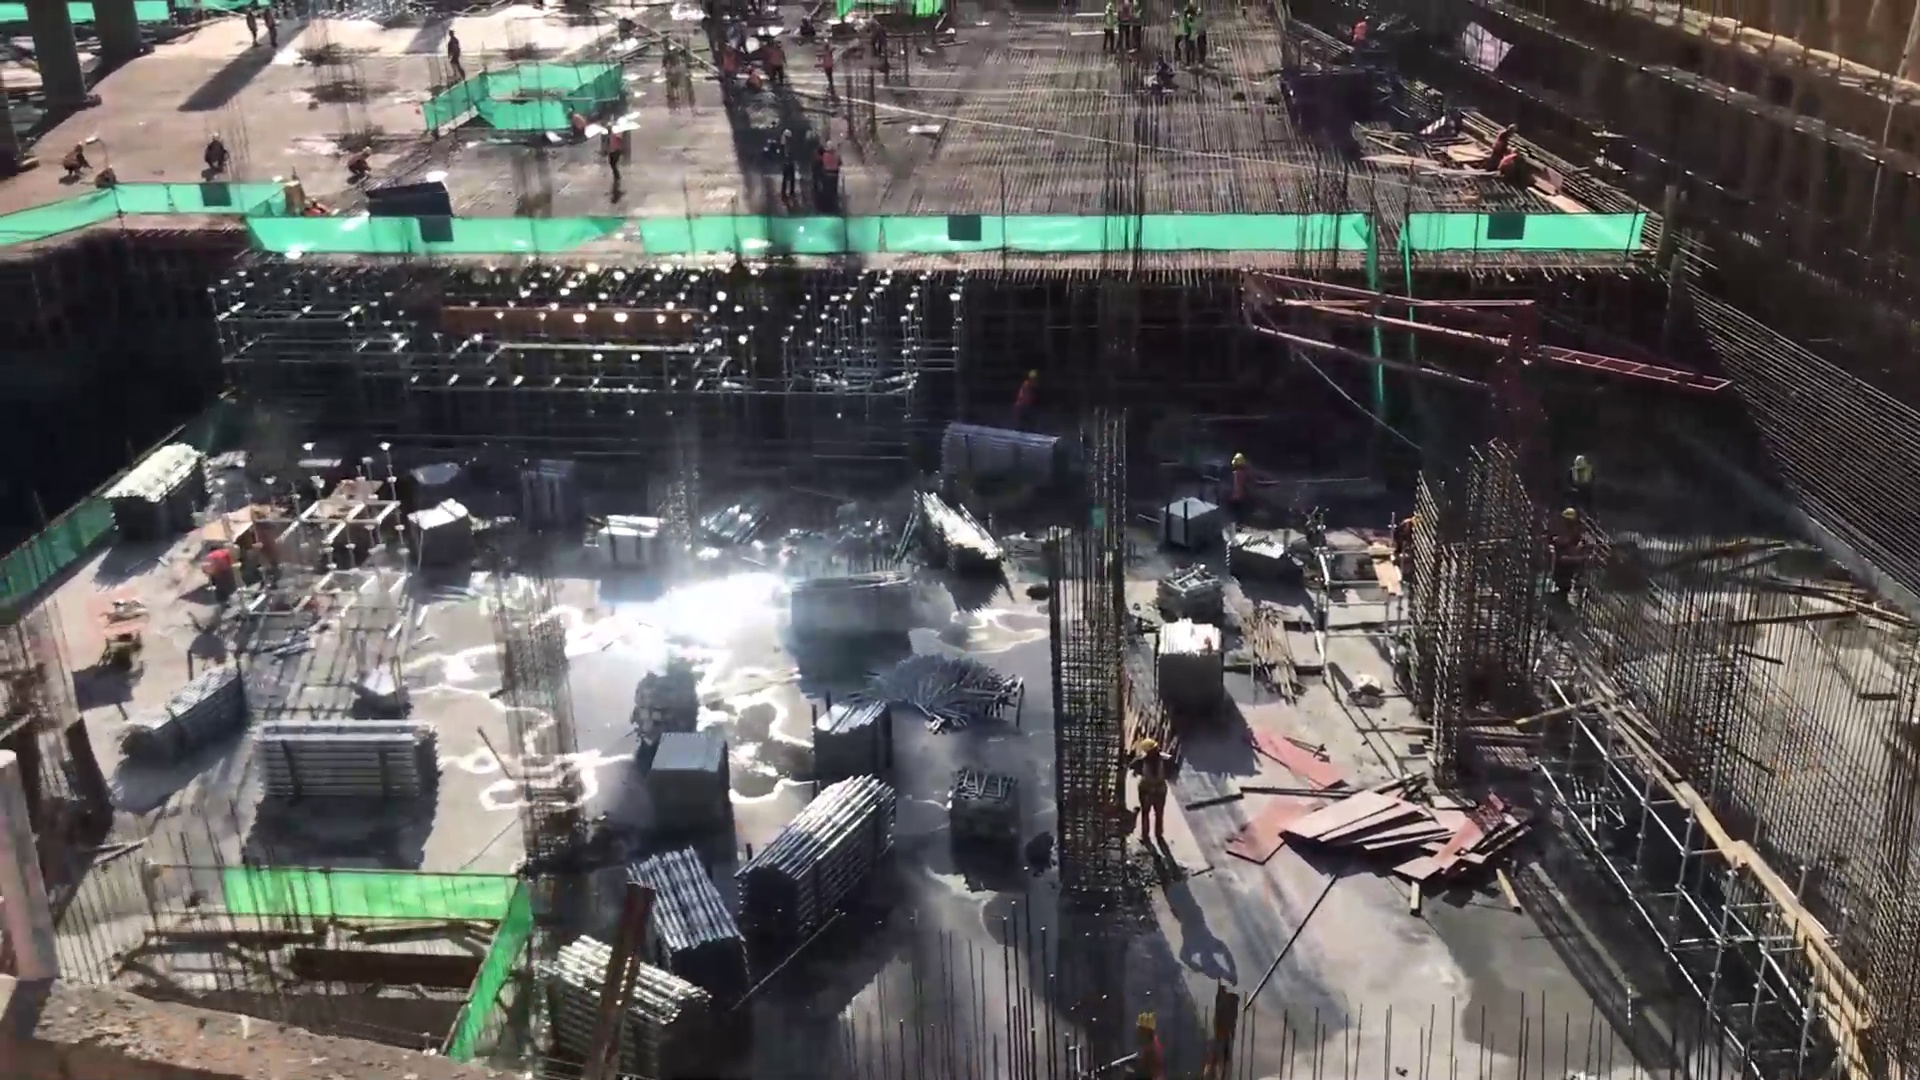helmet: (1141, 737, 1157, 750), (1230, 454, 1244, 466), (1573, 455, 1585, 466)
person: (1135, 740, 1182, 859), (1544, 505, 1584, 600), (1005, 361, 1052, 439), (1215, 445, 1263, 519), (1113, 1014, 1166, 1080), (1560, 436, 1602, 515), (775, 126, 803, 207), (817, 139, 845, 207), (600, 123, 628, 191), (208, 540, 239, 599), (201, 135, 240, 178), (1490, 120, 1519, 175), (442, 27, 469, 85), (764, 40, 793, 94), (342, 147, 379, 185), (717, 41, 740, 97), (1350, 12, 1378, 57), (1190, 5, 1212, 61), (816, 39, 836, 96), (562, 103, 586, 149), (1500, 144, 1528, 182), (237, 3, 260, 48), (61, 144, 89, 178), (262, 6, 283, 47), (1166, 13, 1182, 64), (1183, 11, 1196, 68), (1101, 3, 1117, 48), (742, 66, 762, 97), (1119, 1, 1131, 53), (1133, 3, 1144, 49)
